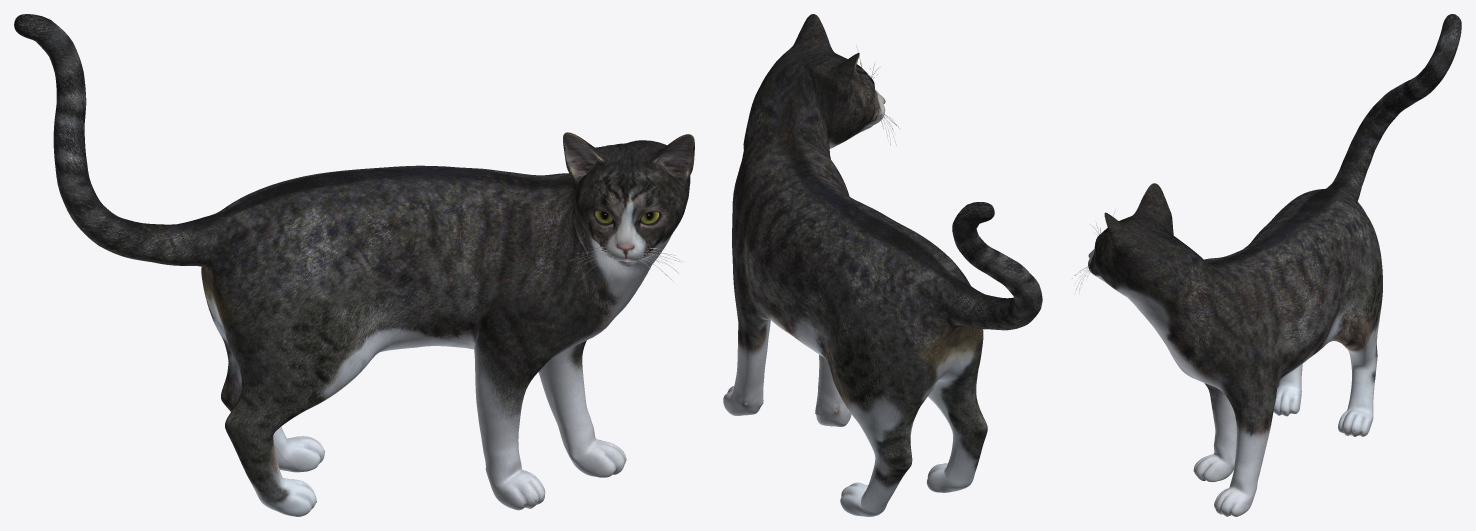
Rendered from Mushuk.fbx.
3 renders of one model, left to right at view 1: azimuth 30°, elevation 25°; view 2: azimuth 150°, elevation 25°; view 3: azimuth 270°, elevation 25°, orthographic. The views are drawn at different scales.
Parts seen in each view (by area): view 1: Model (1); view 2: Model (1); view 3: Model (1).
Boxes of the visible parts, x1=… form: Model (1): x1=14, y1=14, x2=694, y2=516; Model (1): x1=723, y1=14, x2=1042, y2=516; Model (1): x1=1072, y1=14, x2=1461, y2=516.
Size of the model in its own units: 45.66 by 42.16 by 43.63.
14 materials, 14 textured.
